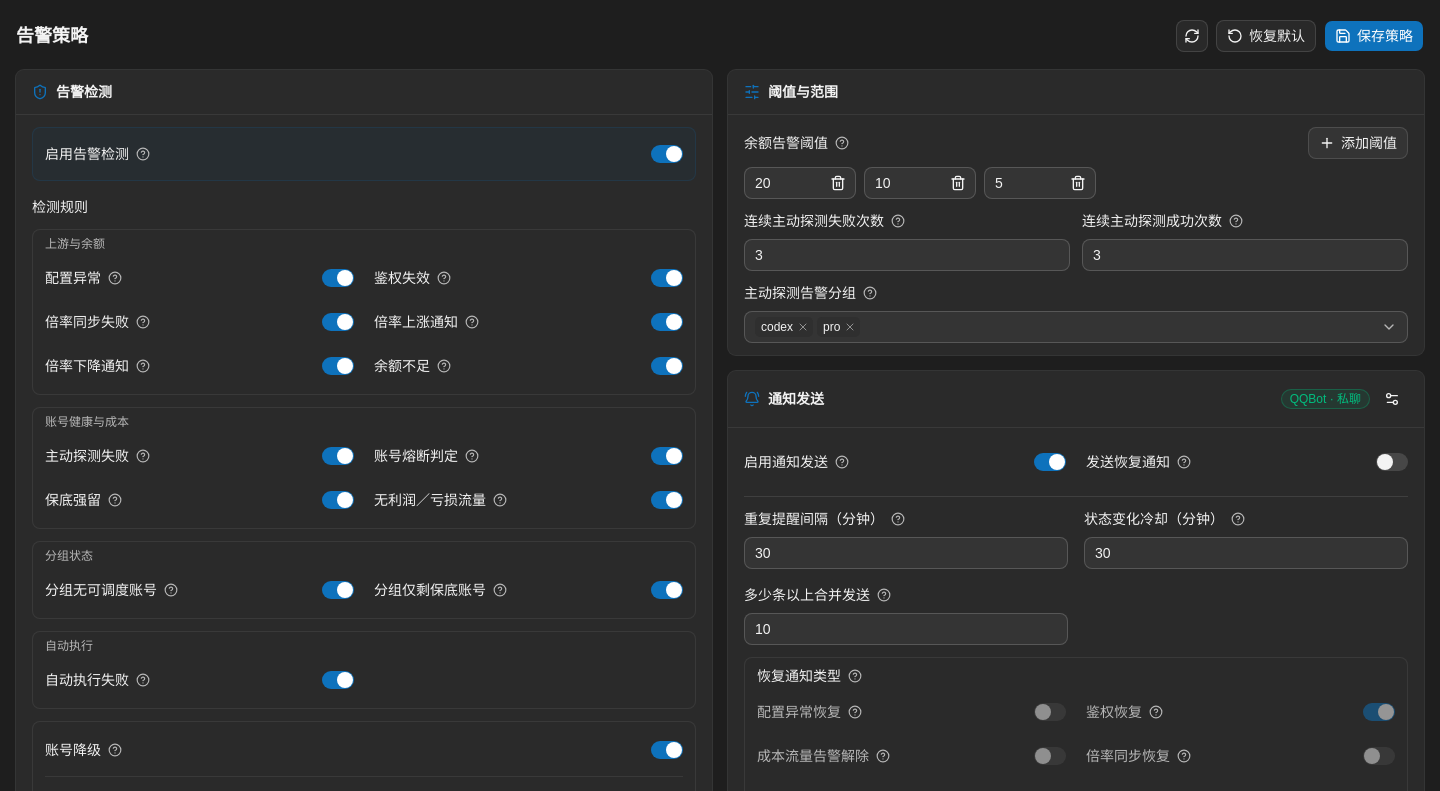
Test: 告警策略开关联动 › 关闭通知发送后，禁用通知设置但仍可编辑检测规则
Click the switch named "启用通知发送" at (1050, 462), box [1034,453,1066,471]
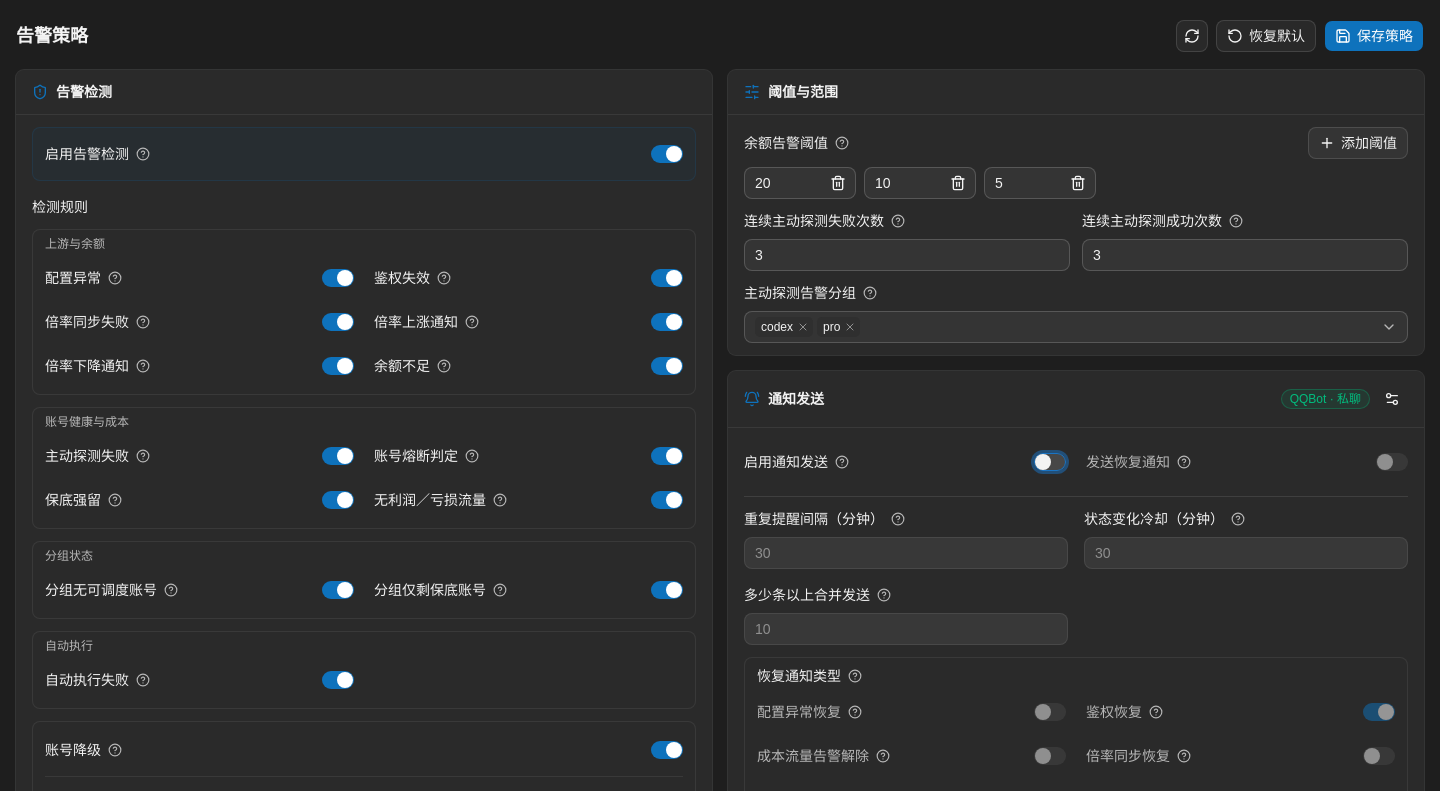
Expected: the number field labelled "重复提醒间隔（分钟）" is disabled, [744,537,1068,569]
